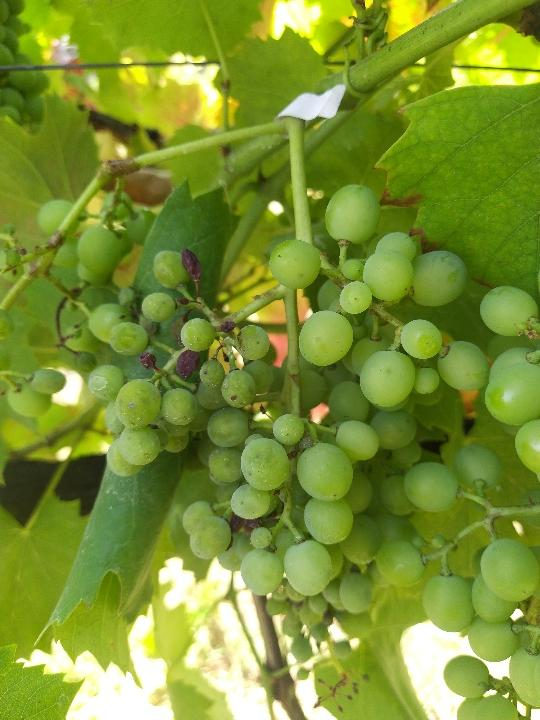grape: (82, 178, 471, 617)
